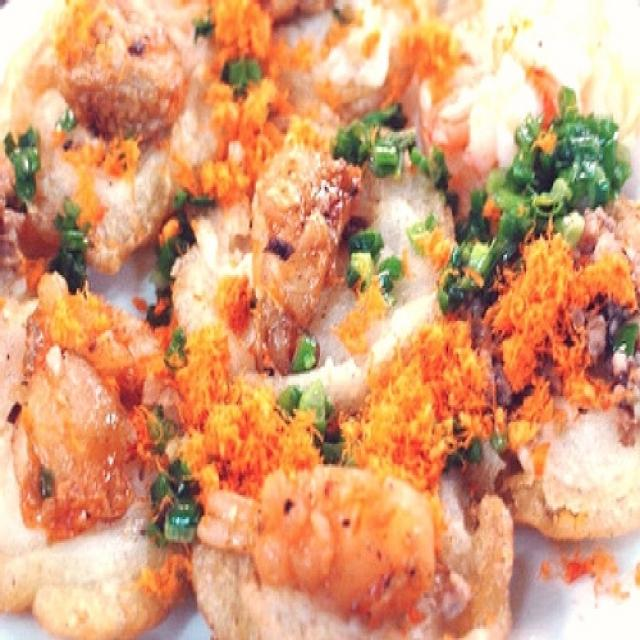炸货点心: (8, 15, 620, 629)
熟制海鲜: (8, 15, 620, 629)
